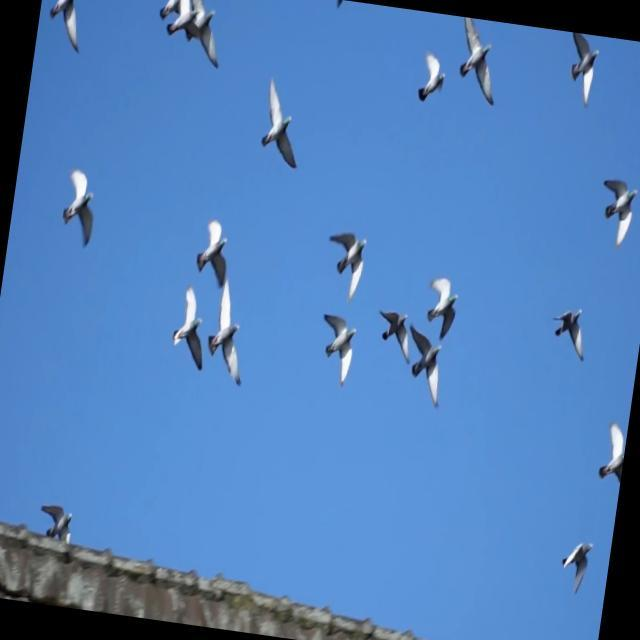bird: (200, 278, 256, 397), (447, 17, 509, 110), (256, 79, 310, 175), (398, 319, 452, 411), (55, 165, 105, 253), (167, 284, 215, 370), (311, 310, 362, 389), (176, 0, 230, 74), (320, 228, 370, 306), (594, 168, 640, 252), (191, 217, 238, 292), (417, 273, 465, 345), (544, 299, 594, 365), (558, 32, 602, 107), (38, 0, 93, 57), (371, 305, 416, 366), (28, 499, 84, 548), (411, 47, 450, 117), (555, 536, 596, 601), (594, 418, 629, 491), (163, 0, 211, 42), (156, 0, 191, 31)
